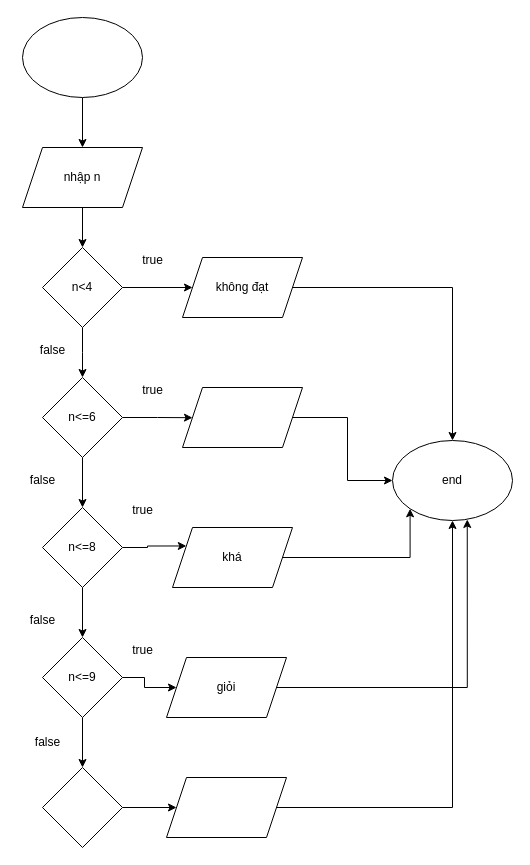
The diagram is 530 pixels wide and 865 high, and some of its shapes have lost their labels. Each missing label, with the centre of its shape:
"n<=10" belongs at pixel 82 807.
"start" belongs at pixel 82 57.
"trung bình" belongs at pixel 242 417.
"xuất sắc" belongs at pixel 226 807.
